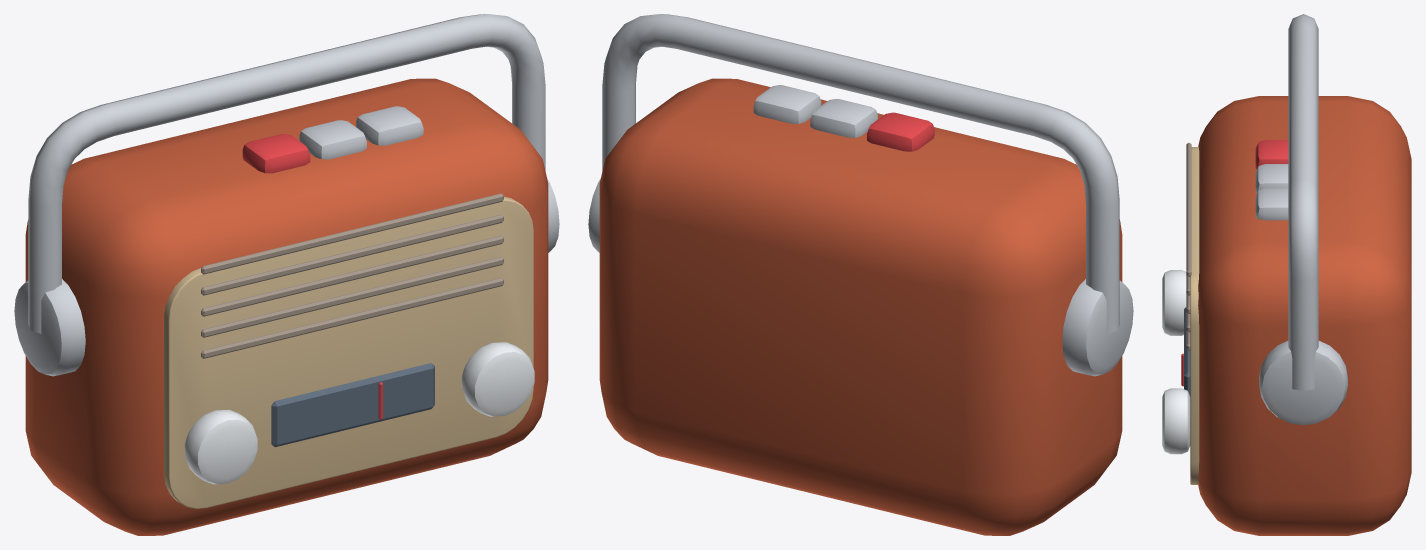
File: radio_antigo.glb
3 renders of one model, left to right at view 1: azimuth 30°, elevation 25°; view 2: azimuth 150°, elevation 25°; view 3: azimuth 270°, elevation 25°, orthographic. The views are drawn at different scales.
Parts seen in each view (by area): view 1: radio_antigo; view 2: radio_antigo; view 3: radio_antigo.
Boxes of the visible parts, box(x1,y1,x2,y2) form: radio_antigo: box(14, 14, 559, 535); radio_antigo: box(588, 14, 1133, 535); radio_antigo: box(1162, 14, 1411, 535).
Bounding box in the file's own units: 0.408 × 0.312 × 0.196.
Materials: 1 (1 with a texture image).
